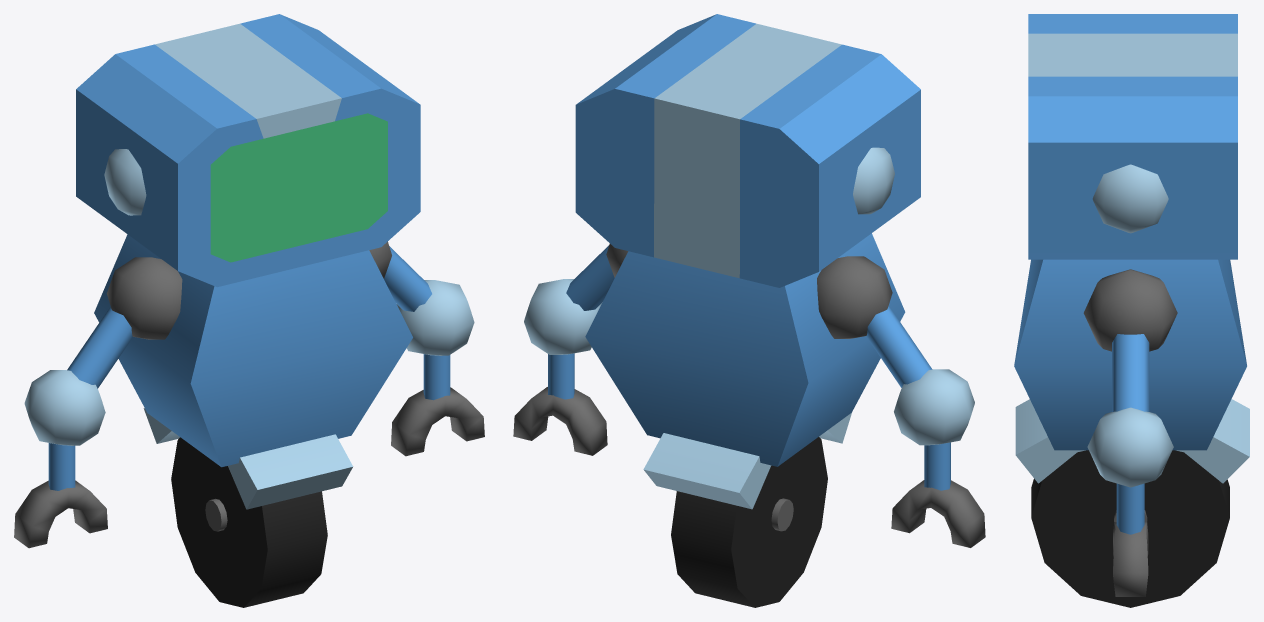
File: Robot.fbx
3 views of the same model, side by side, from view 1: azimuth 30°, elevation 25°; view 2: azimuth 150°, elevation 25°; view 3: azimuth 270°, elevation 25° (orthographic). The views are drawn at different scales.
Parts seen in each view (by area): view 1: Robot, Robot_Arm_R, Robot_Arm_L; view 2: Robot, Robot_Arm_R, Robot_Arm_L; view 3: Robot, Robot_Arm_L.
Boxes of the visible parts, left/top/right/bottom form: Robot: left=76, top=14, right=420, bottom=607; Robot_Arm_R: left=14, top=257, right=182, bottom=548; Robot_Arm_L: left=369, top=241, right=484, bottom=456; Robot: left=575, top=14, right=920, bottom=607; Robot_Arm_R: left=817, top=256, right=985, bottom=547; Robot_Arm_L: left=513, top=243, right=628, bottom=455; Robot: left=1014, top=14, right=1249, bottom=607; Robot_Arm_L: left=1083, top=269, right=1177, bottom=596.
Size of the model in its own units: 5.45 by 5.97 by 2.37.
